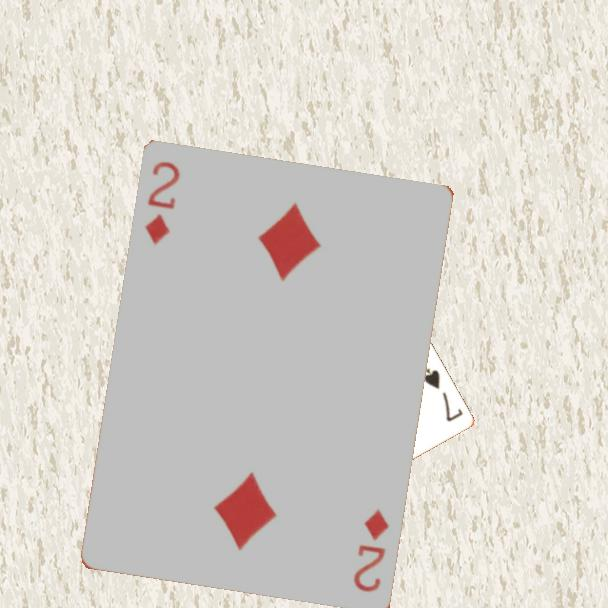d02: (350, 506, 393, 596), (142, 158, 183, 248)
s07: (420, 365, 466, 425)
